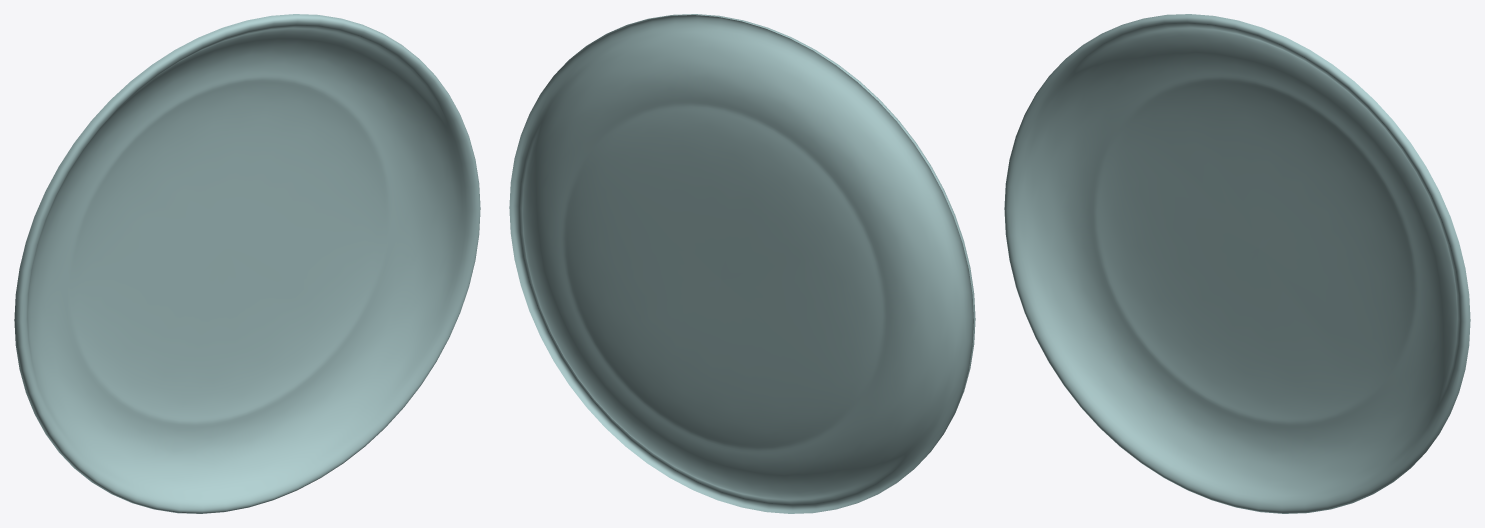
3 renders of one model, left to right at view 1: azimuth 30°, elevation 25°; view 2: azimuth 150°, elevation 25°; view 3: azimuth 330°, elevation 25°, orthographic.
Bounding box in the file's own units: 1 × 1 × 0.0906.
